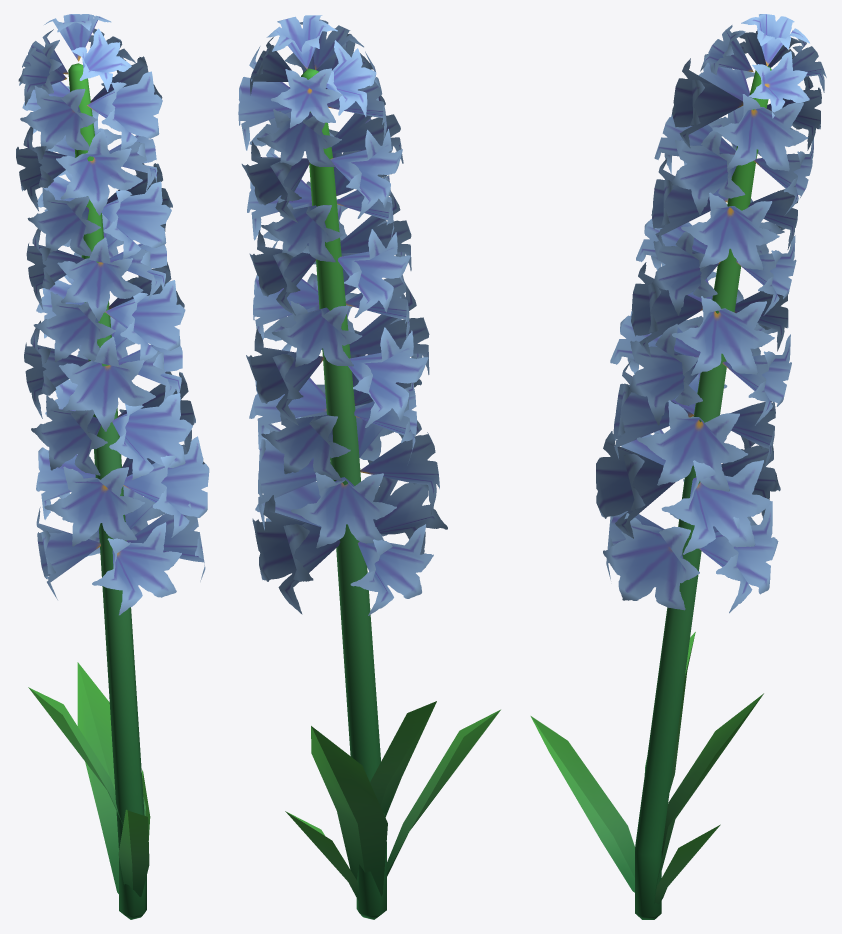
The model's file is DEMOFlowerpack_Hyacinth_PastellBlue_Big.fbx.
The picture shows the model from 3 angles, left to right: view 1: azimuth 30°, elevation 25°; view 2: azimuth 150°, elevation 25°; view 3: azimuth 270°, elevation 25°; orthographic projection. The views are drawn at different scales.
Visible parts, largest first — view 1: Hyacinth_PastellBlue_Big; view 2: Hyacinth_PastellBlue_Big; view 3: Hyacinth_PastellBlue_Big.
Part boxes in pixels (x1,y1,x2,y2): Hyacinth_PastellBlue_Big: (16, 14, 209, 919); Hyacinth_PastellBlue_Big: (238, 15, 500, 919); Hyacinth_PastellBlue_Big: (530, 14, 826, 919).
Size of the model in its own units: 33.29 by 49.9 by 166.
1 material, 1 textured.
